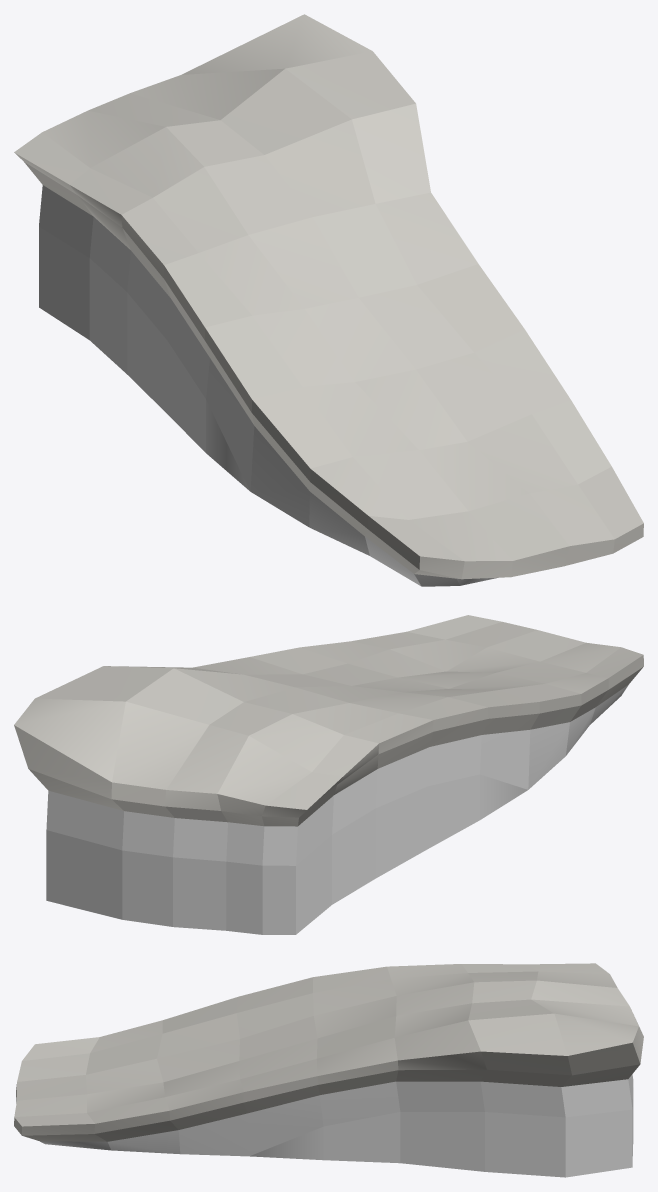
File: christmasIslandSlopeBACKUP.dae
The picture shows the model from 3 angles, top to bottom: view 1: azimuth 30°, elevation 25°; view 2: azimuth 150°, elevation 25°; view 3: azimuth 270°, elevation 25°; orthographic projection. The views are drawn at different scales.
Parts seen in each view (by area): view 1: christmasIslandSlope; view 2: christmasIslandSlope; view 3: christmasIslandSlope.
Part boxes in pixels (x1,y1,x2,y2): christmasIslandSlope: (14,14,643,586); christmasIslandSlope: (14,615,643,934); christmasIslandSlope: (14,963,643,1177).
Bounding box in the file's own units: 6.16 × 13.46 × 3.62.
Materials: 2 (1 with a texture image).
